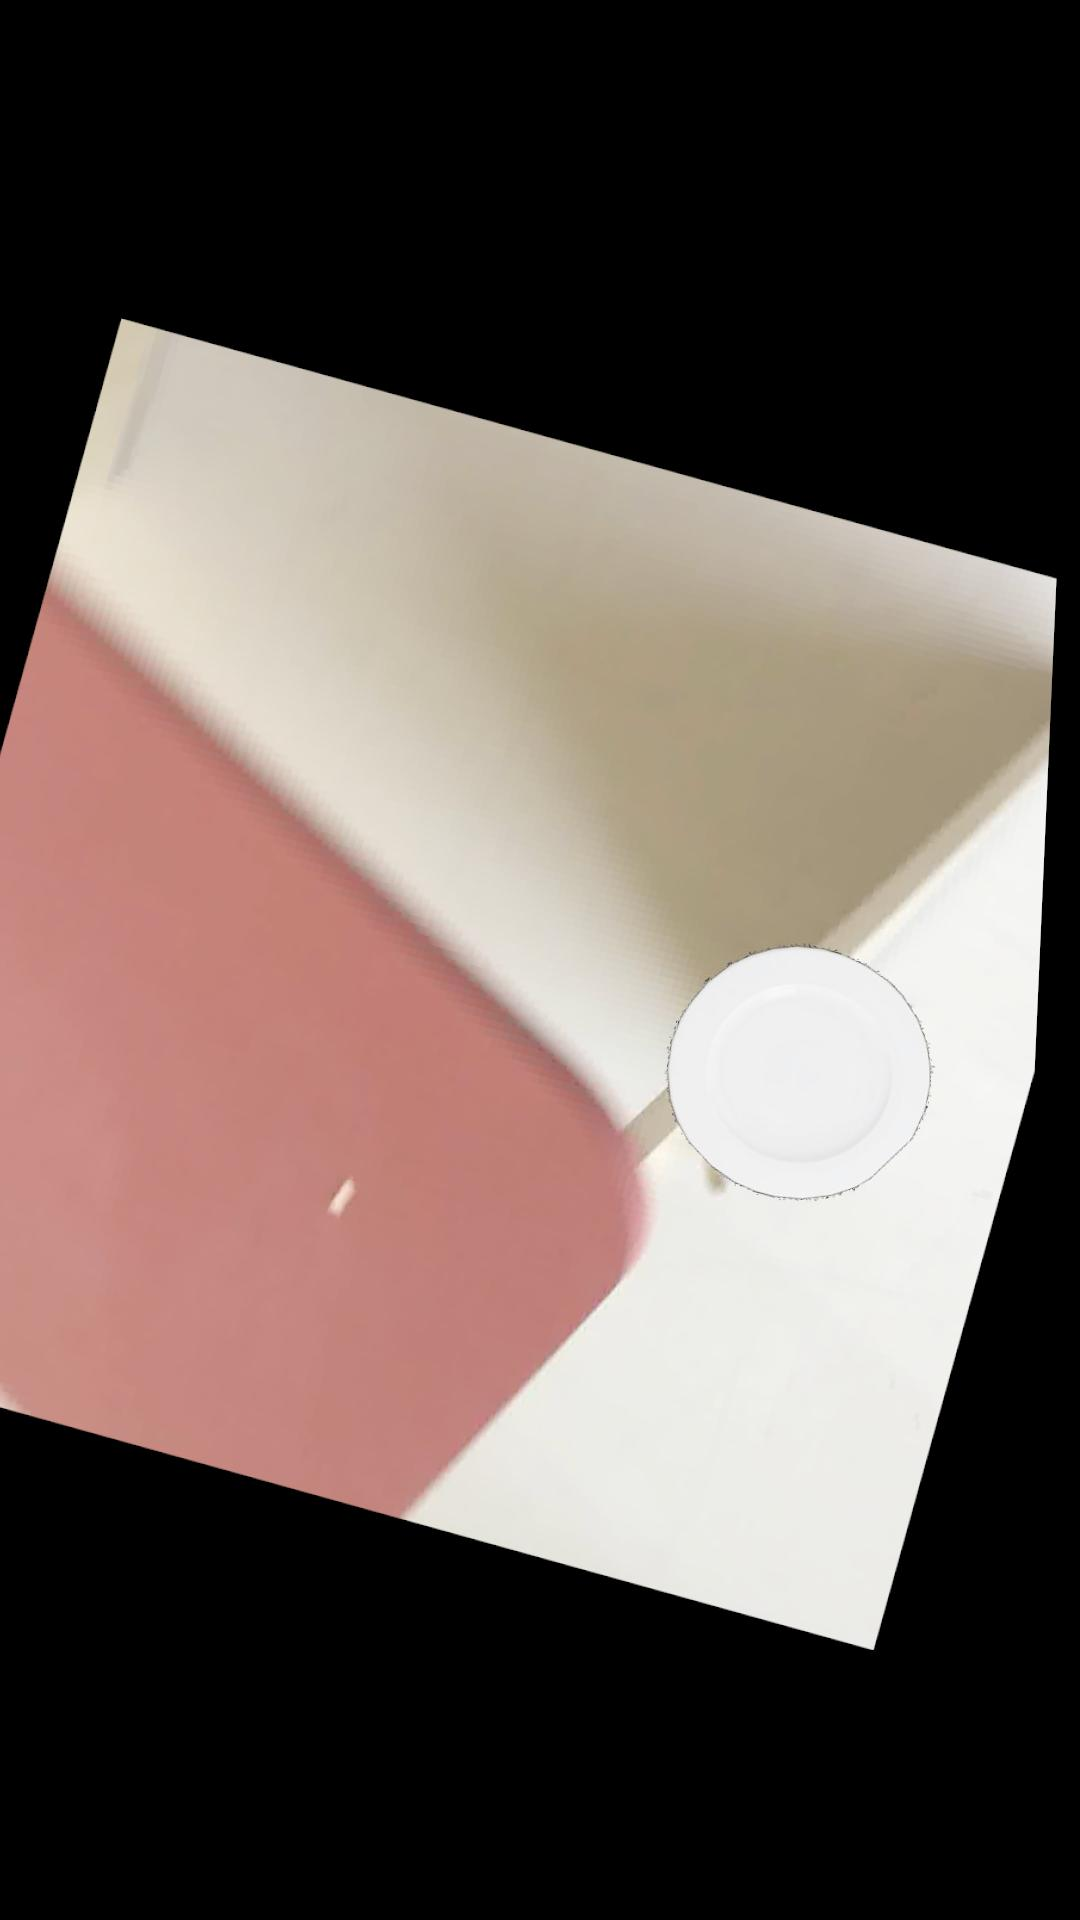plate: (675, 934, 939, 1189)
